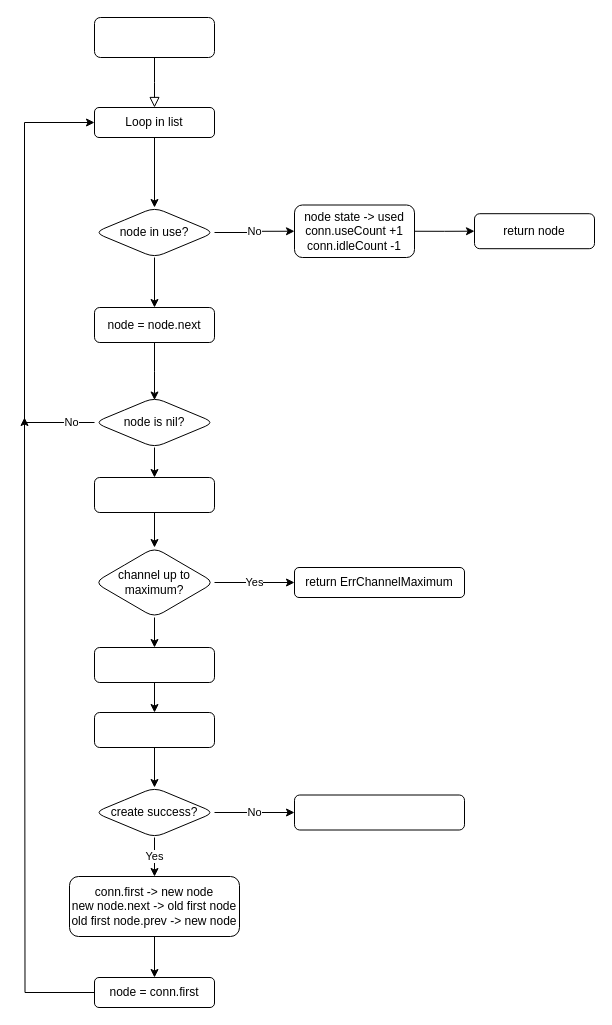
This 612x1025 diagram has some shape labels left out. Each missing label, with the centre of its shape:
alloc new channel: the point at 154,494
allocCount +1: the point at 154,664
allocCount -1 return error: the point at 379,812
create channel: the point at 154,730
GetChannel: the point at 154,37
